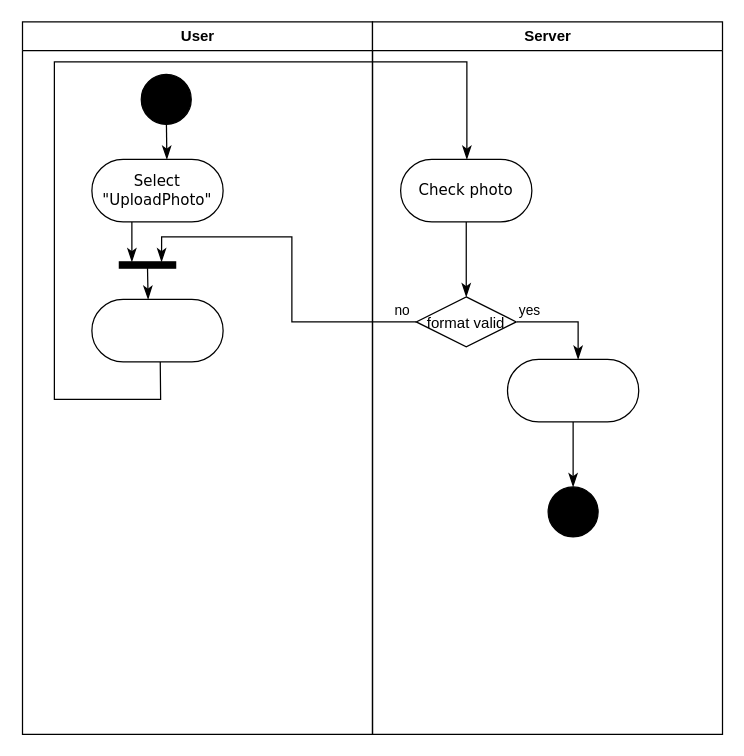
This 744x756 diagram has some shape labels left out. Here are the shapes that lost their labels. From the top down, the centre of each, then its label:
(157,330): Select photo
(572,390): SavePhoto
